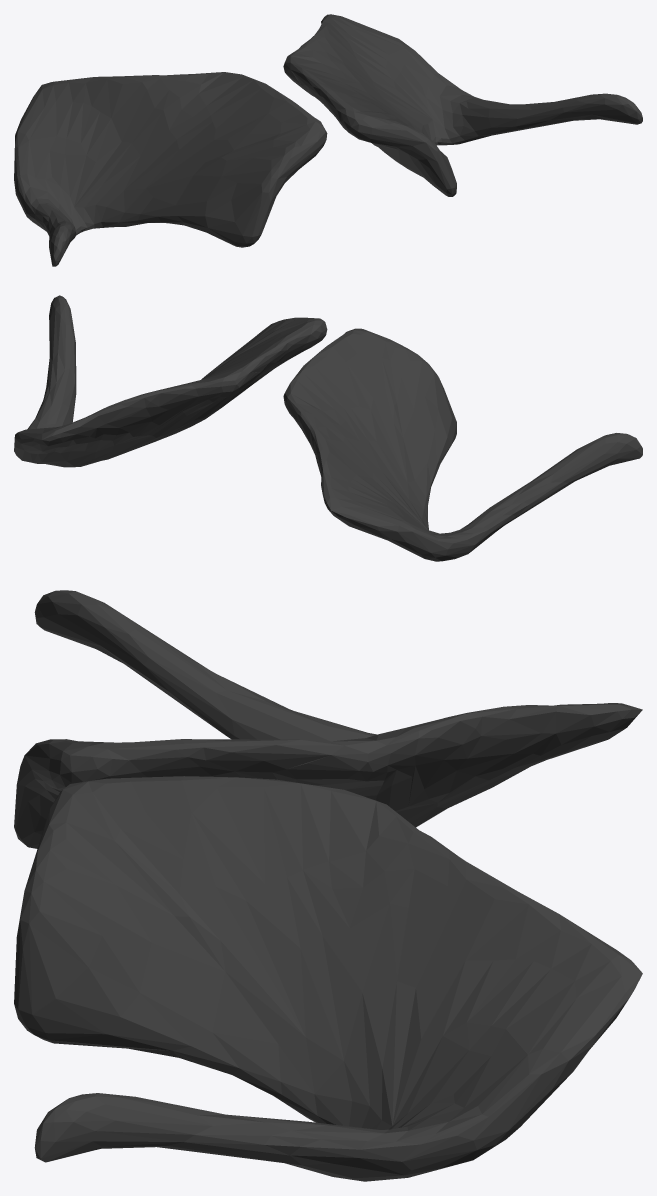
File: m_obturator_internus.glb
3 views of the same model, one above another, from view 1: azimuth 30°, elevation 25°; view 2: azimuth 150°, elevation 25°; view 3: azimuth 270°, elevation 25° (orthographic). The views are drawn at different scales.
Parts seen in each view (by area): view 1: m_obturator_internus; view 2: m_obturator_internus; view 3: m_obturator_internus.
Part boxes in pixels (x1,y1,x2,y2): m_obturator_internus: [14, 14, 642, 266]; m_obturator_internus: [14, 295, 642, 561]; m_obturator_internus: [14, 590, 642, 1181].
Size of the model in its own units: 0.00435 by 0.000923 by 0.00214.
Materials: 1 (1 with a texture image).
